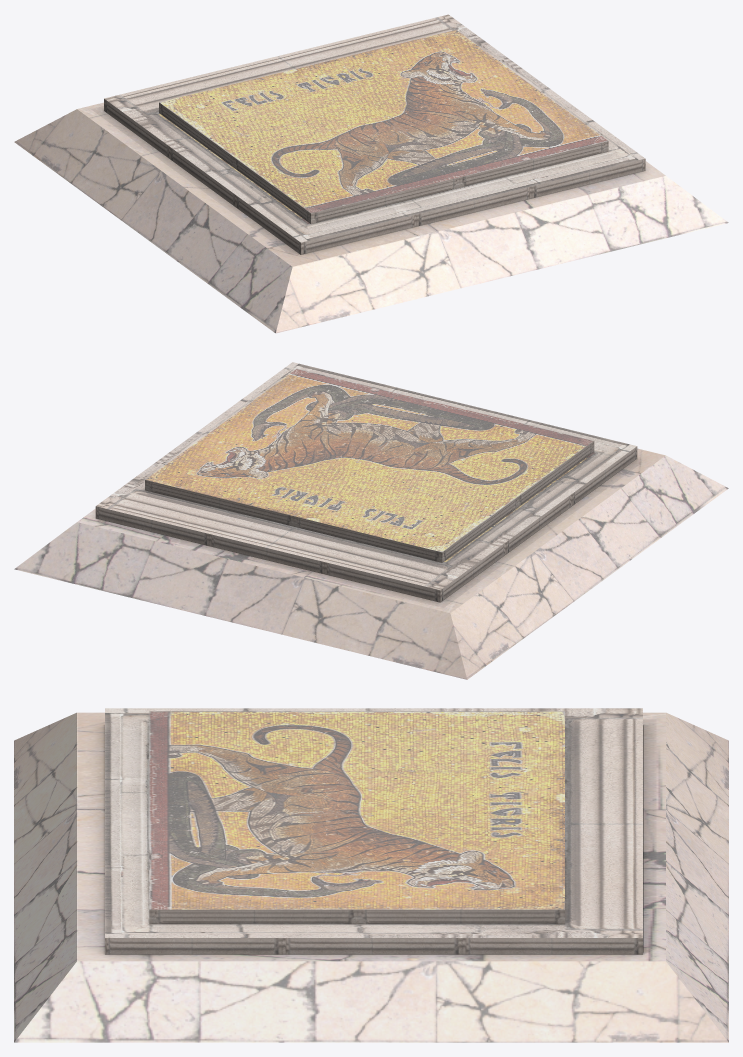
Rendered from pressure_platetigris.glb.
3 views of the same model, one above another, from view 1: azimuth 30°, elevation 25°; view 2: azimuth 150°, elevation 25°; view 3: azimuth 270°, elevation 25° (orthographic). The views are drawn at different scales.
Parts seen in each view (by area): view 1: Object001_Object001_mtl_0, Object002_Object002_mtl_0; view 2: Object001_Object001_mtl_0, Object002_Object002_mtl_0; view 3: Object001_Object001_mtl_0, Object002_Object002_mtl_0.
Part boxes in pixels (x1,y1,x2,y2): Object001_Object001_mtl_0: [104, 14, 645, 254]; Object002_Object002_mtl_0: [14, 102, 728, 333]; Object001_Object001_mtl_0: [95, 362, 637, 602]; Object002_Object002_mtl_0: [14, 448, 728, 679]; Object001_Object001_mtl_0: [105, 708, 642, 954]; Object002_Object002_mtl_0: [14, 712, 728, 1042].
Size of the model in its own units: 31.15 by 4.13 by 31.15.
Materials: 2 (2 with a texture image).
